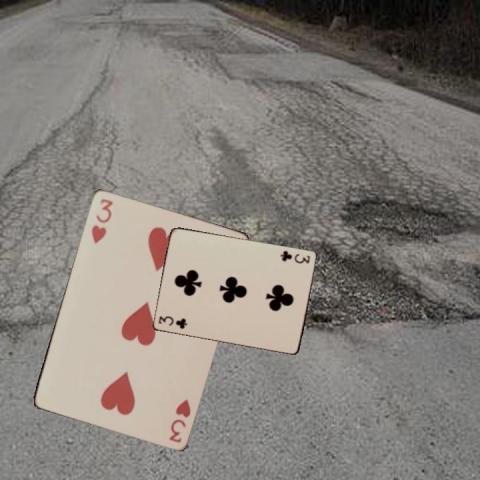3c: (278, 247, 311, 265), (156, 313, 189, 330)
3h: (88, 195, 114, 245), (166, 395, 192, 444)
